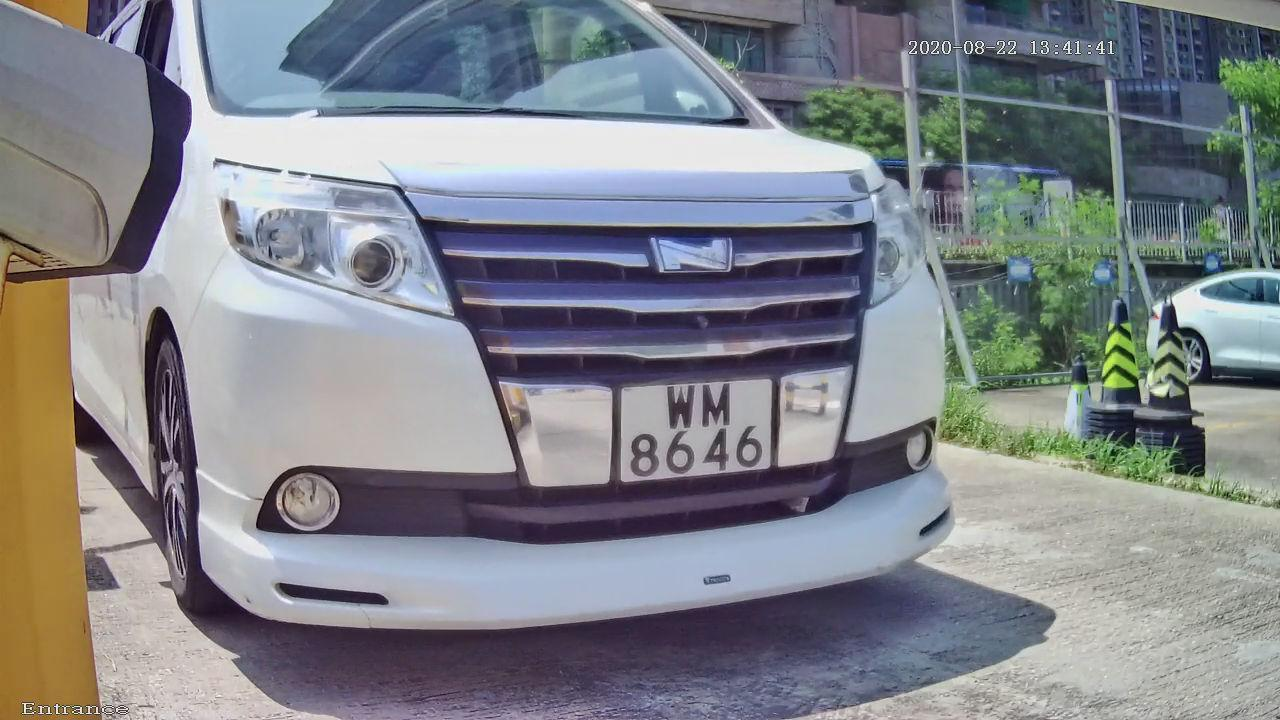Car: (63, 1, 1001, 692)
License Plate: (543, 351, 835, 502)
